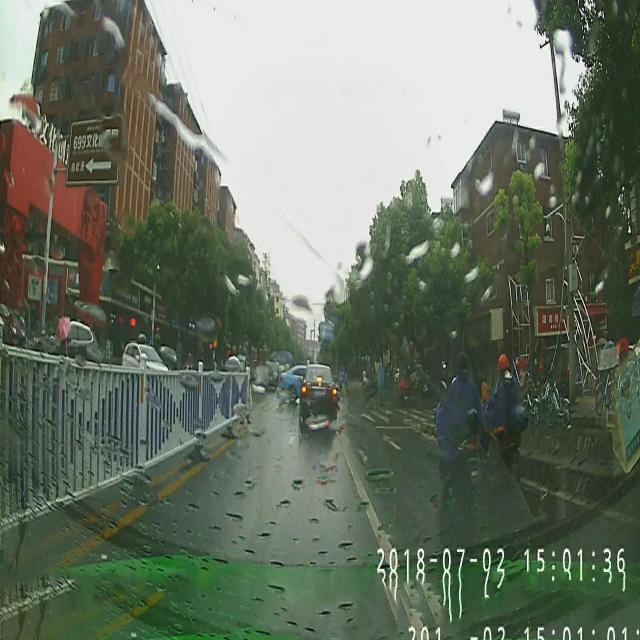car: (298, 360, 340, 420), (275, 364, 305, 401)
